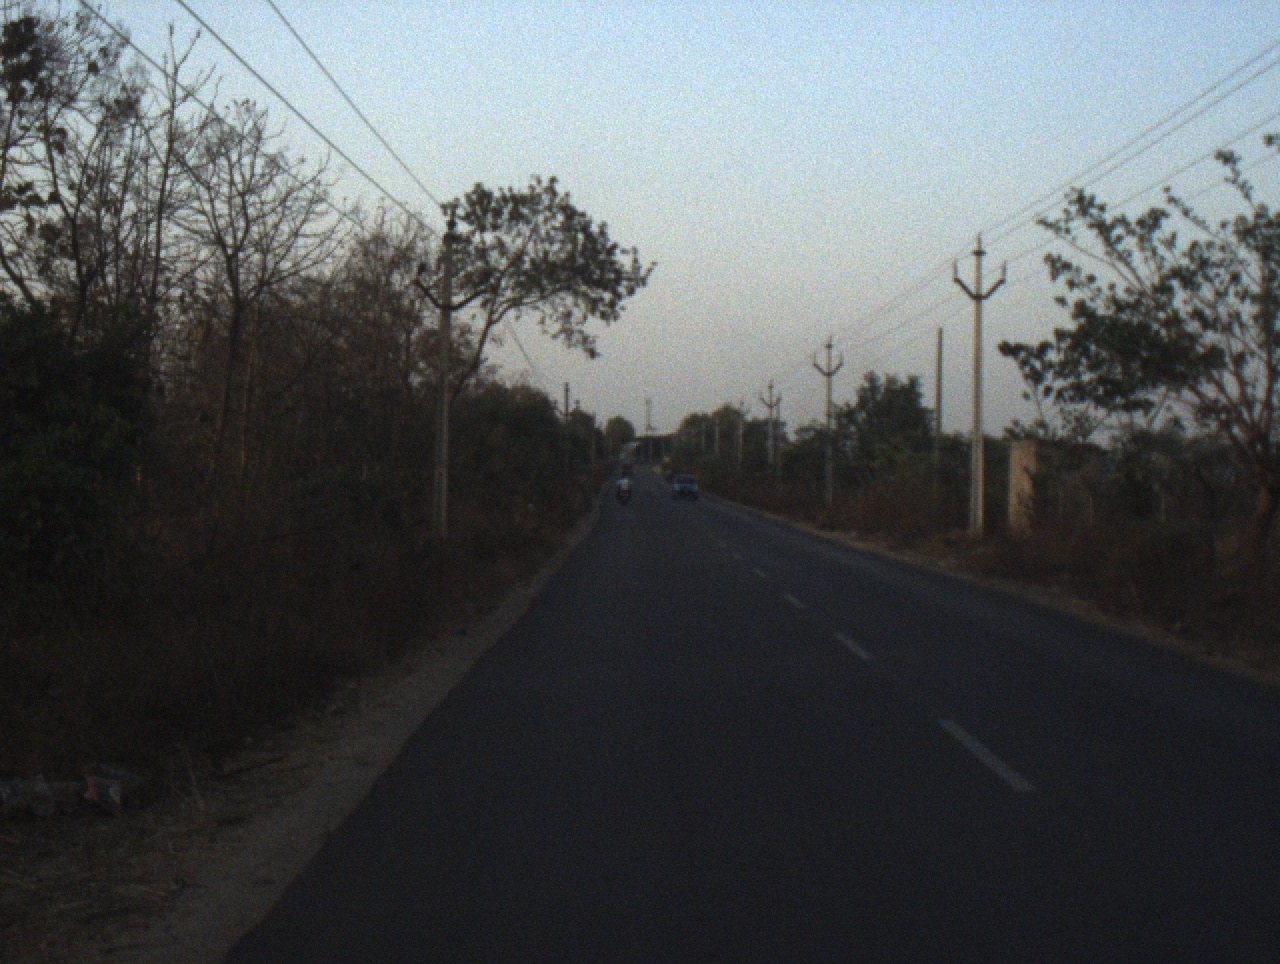autorickshaw: (619, 461, 635, 479)
car: (671, 472, 698, 501)
motorcycle: (616, 489, 632, 507)
rider: (613, 472, 633, 497)
